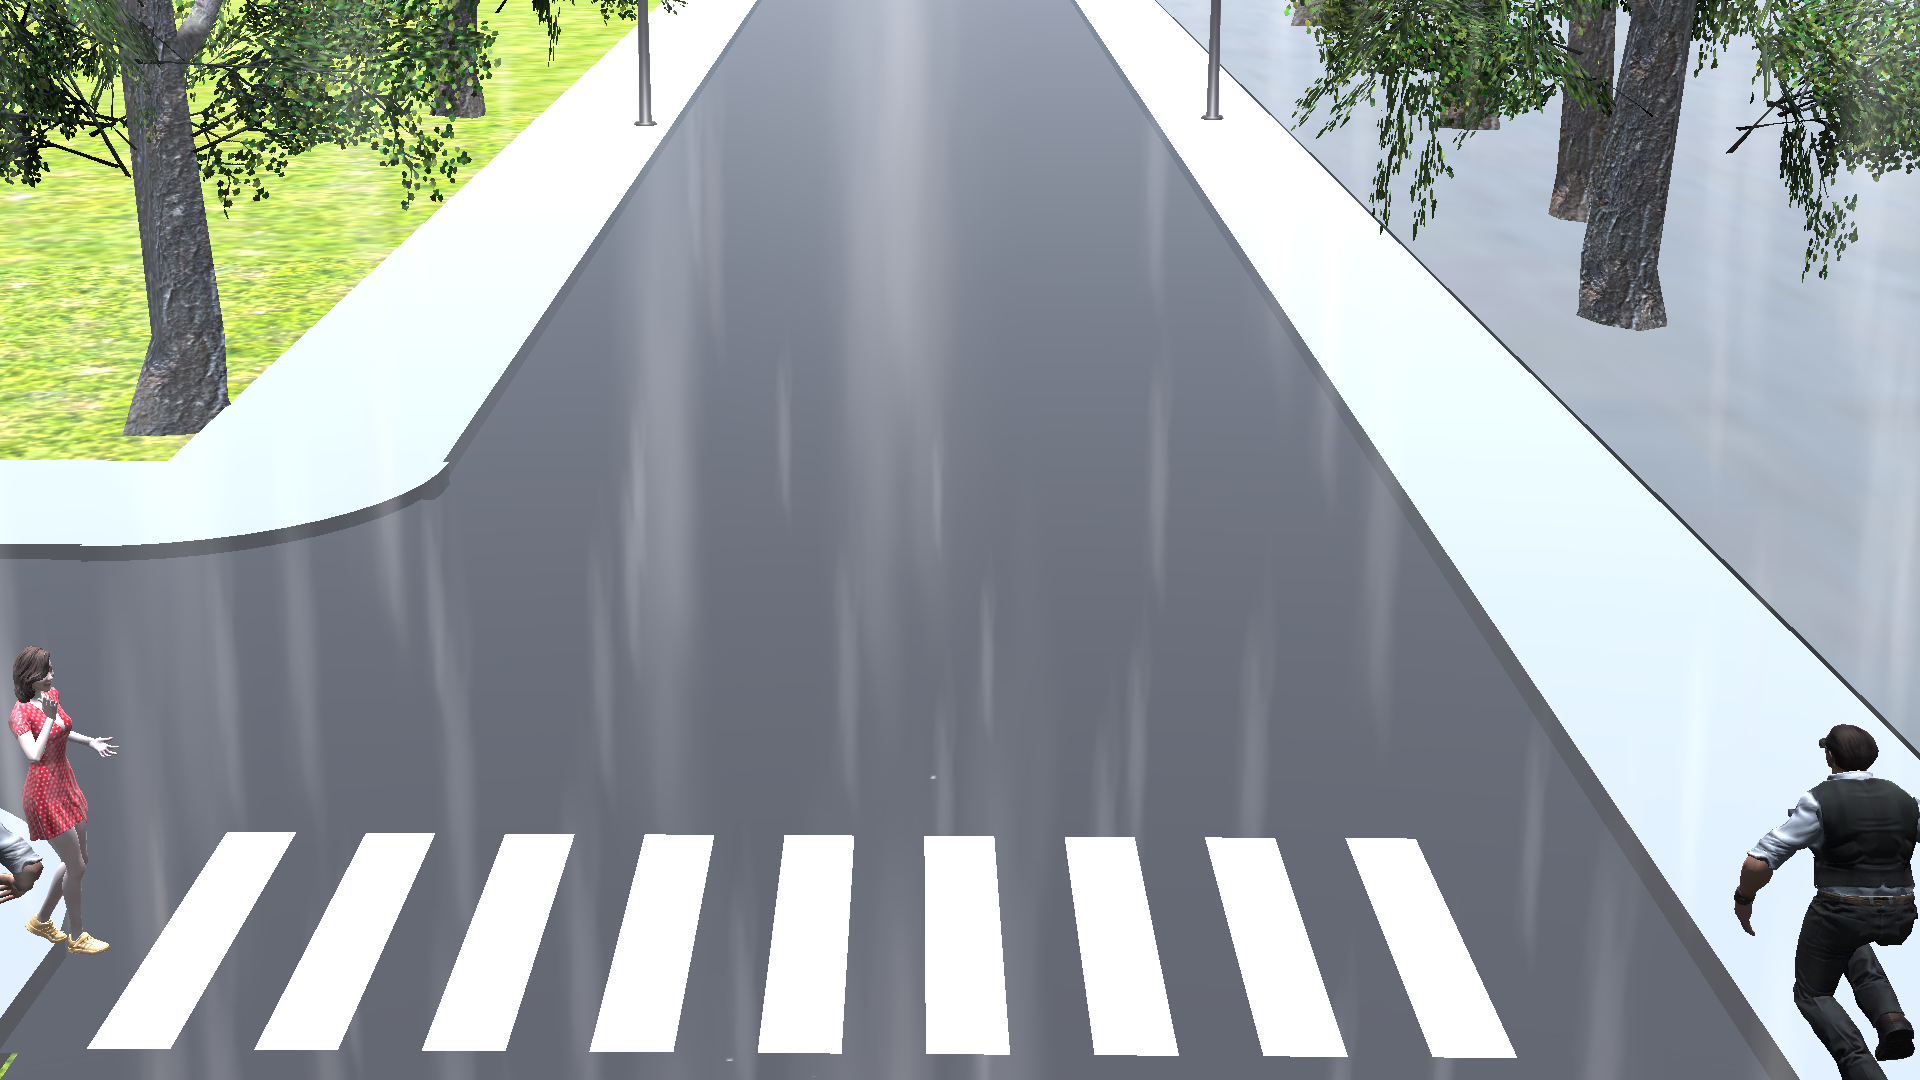pedestrian: (1730, 718, 1920, 1080), (5, 646, 133, 977)
